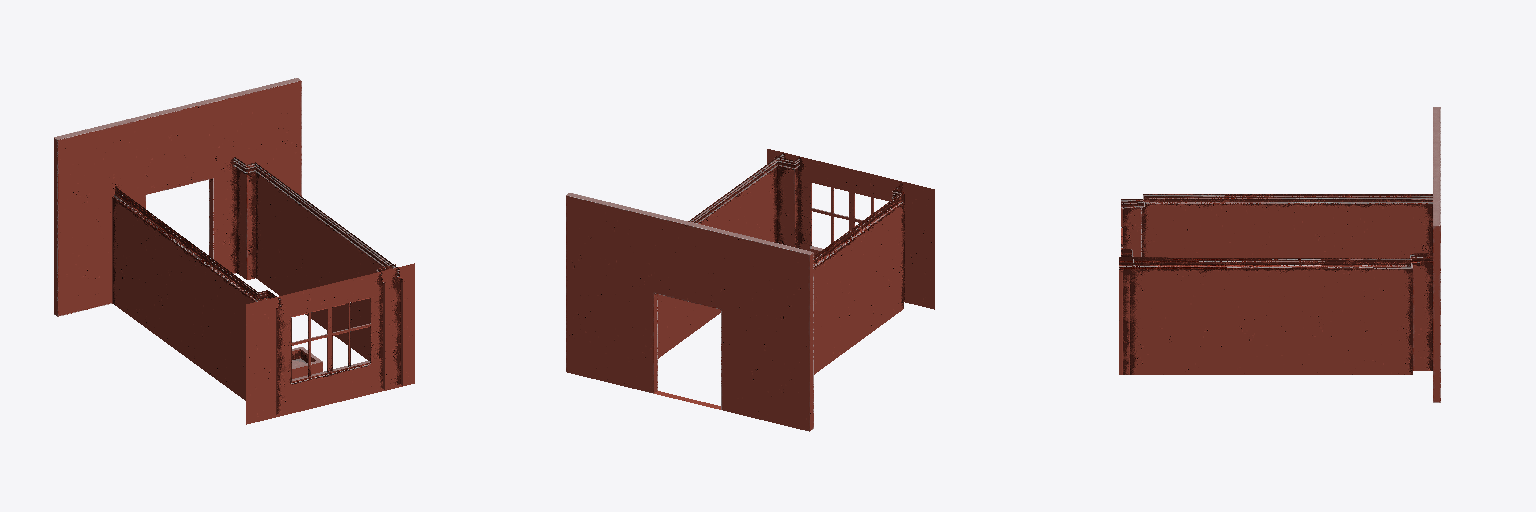
3 renders of one model, left to right at view 1: azimuth 30°, elevation 25°; view 2: azimuth 150°, elevation 25°; view 3: azimuth 270°, elevation 25°, orthographic.
Visible parts, largest first — view 1: polySurface46; view 2: polySurface46; view 3: polySurface46.
Part boxes in pixels (x1,y1,x2,y2): polySurface46: (54,78,414,424); polySurface46: (566,149,934,431); polySurface46: (1119,107,1440,402).
Bounding box in the file's own units: 18.04 × 12.67 × 20.58.
Materials: 1 (1 with a texture image).